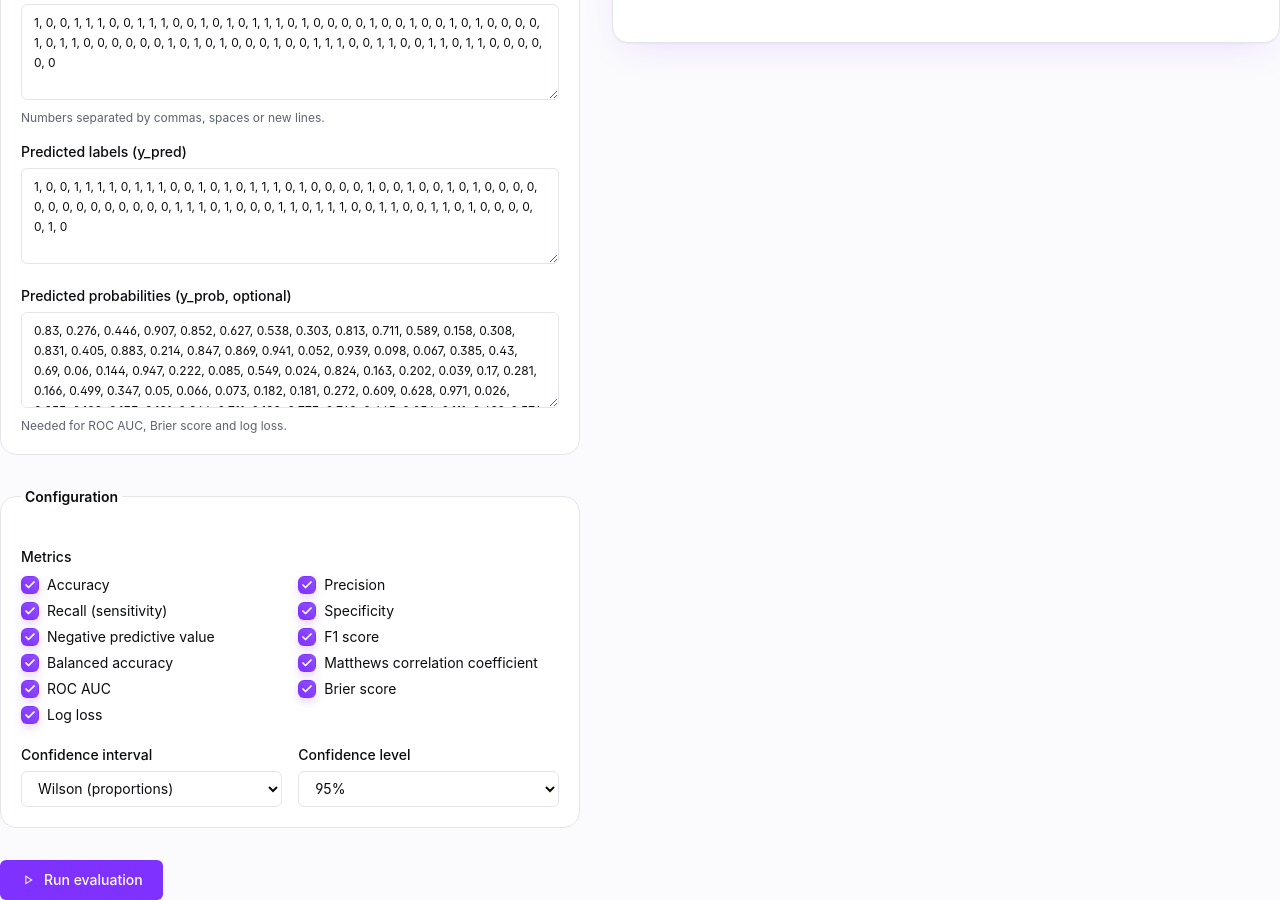
Test: every run is visibly acknowledged › counts runs and says when a re-run gives identical results
(page scrolled)
Click the button "Run evaluation".
click(81, 880)  # box [0,860,163,899]
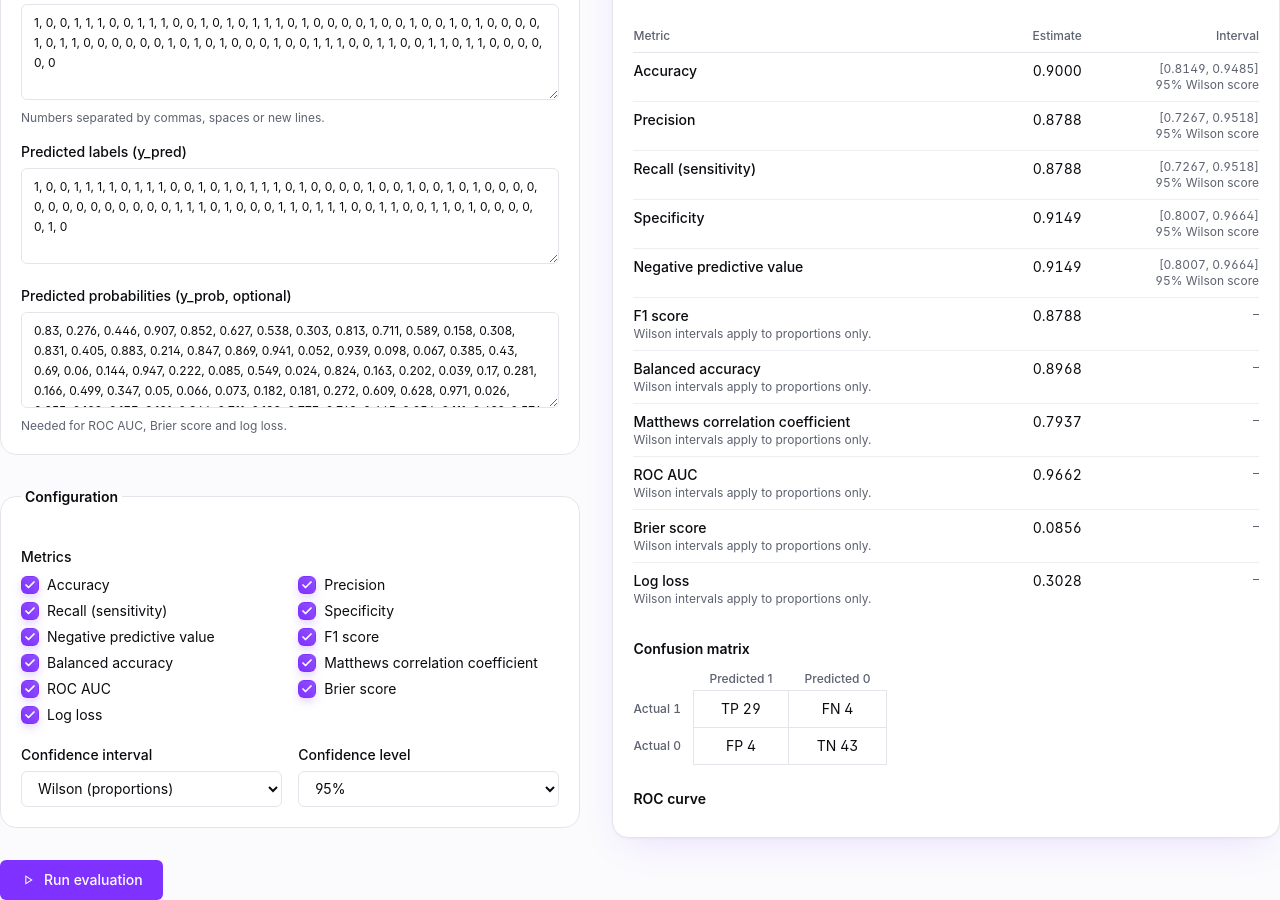
Click the button "Run evaluation".
click(81, 880)  # box [0,860,163,899]
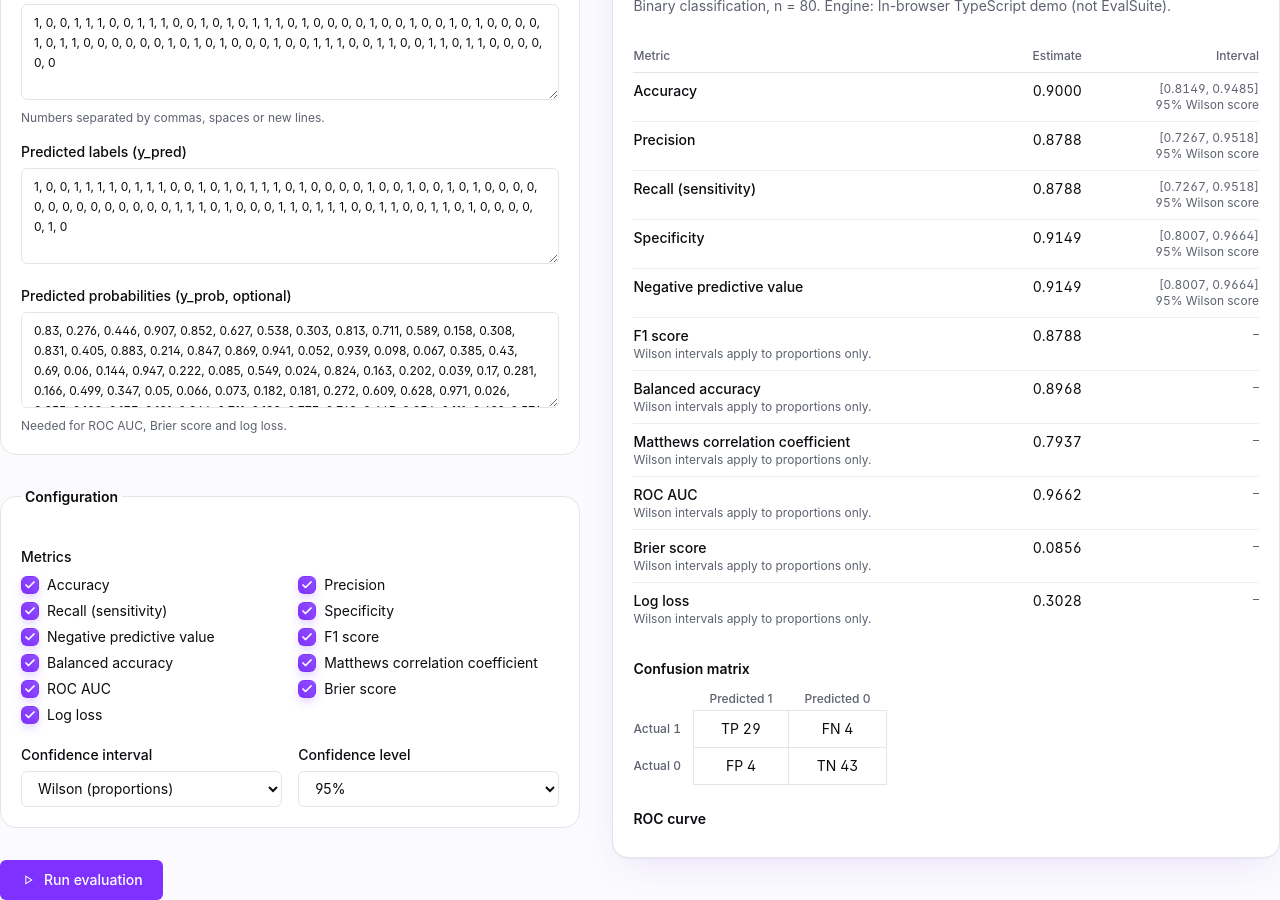
Select "99%" in the dropdown labelled "Confidence level" at x=429, y=788, box [298,770,559,806]
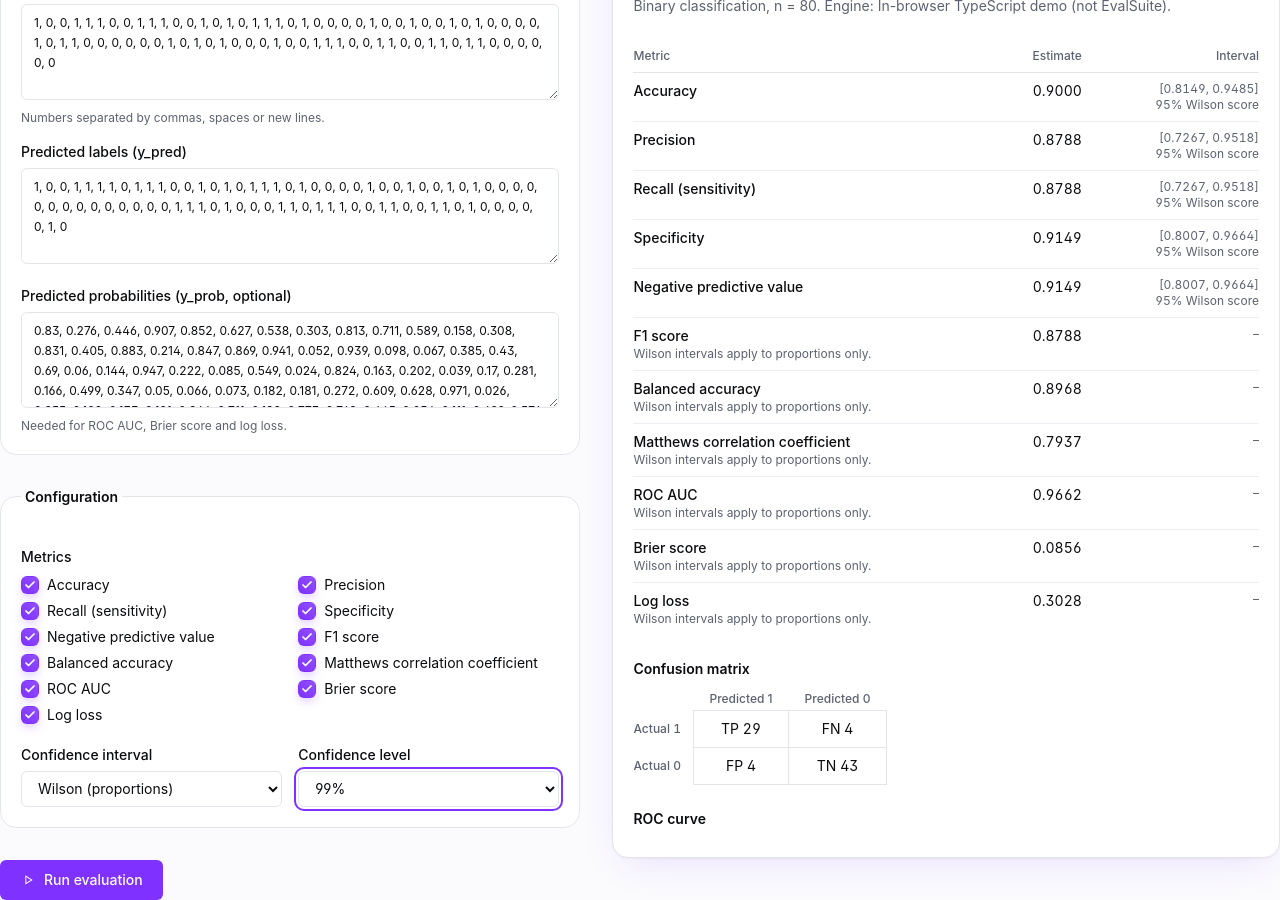
Click the button "Run evaluation".
click(81, 880)  # box [0,860,163,899]
(page scrolled)
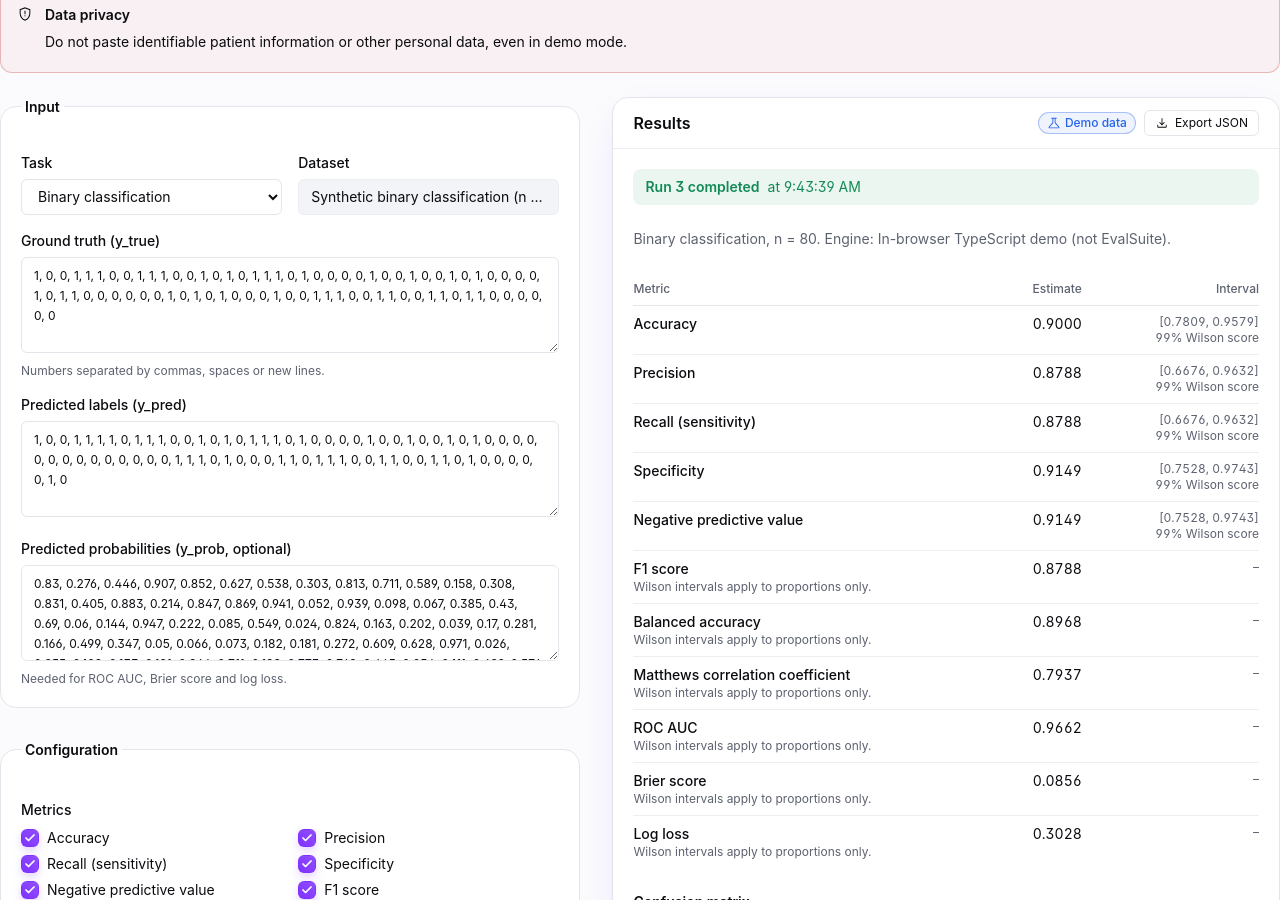
Now the text "Run 3 completed" is shown, box [646,176,760,196]
